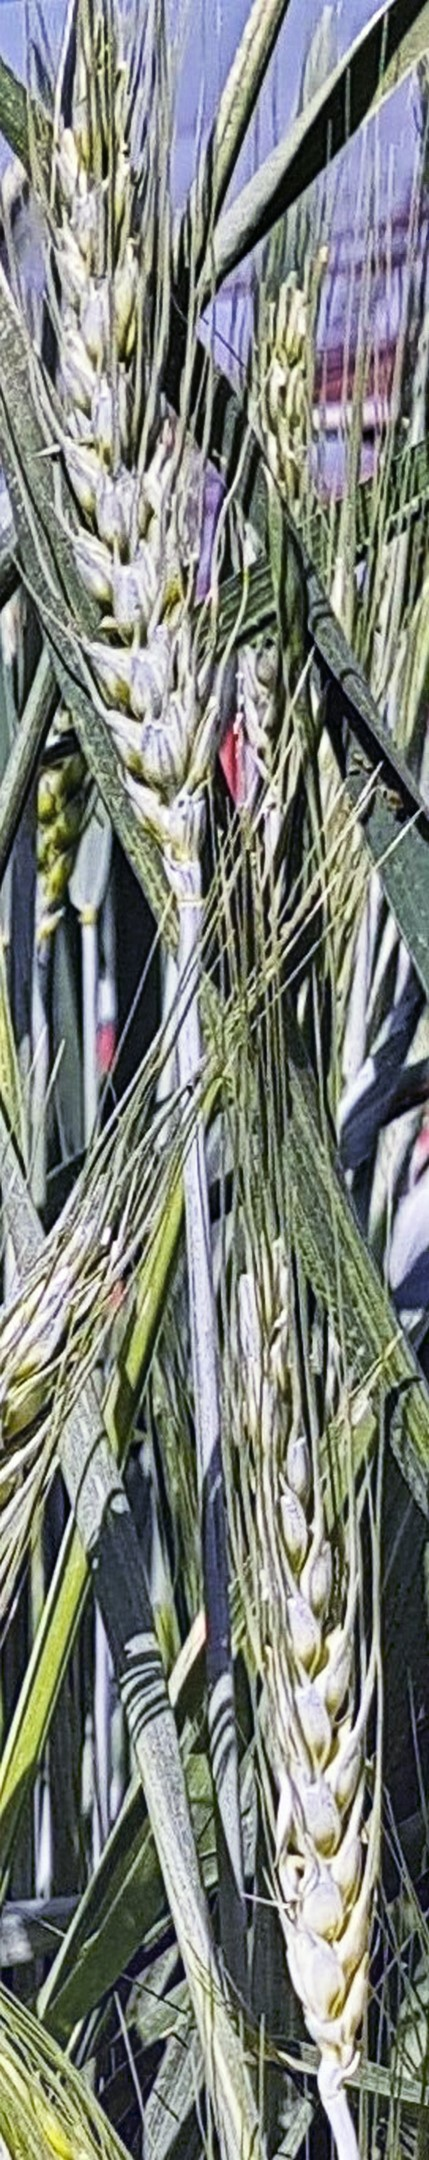Healthy Wheat: (15, 96, 266, 887), (223, 1245, 429, 1982)
